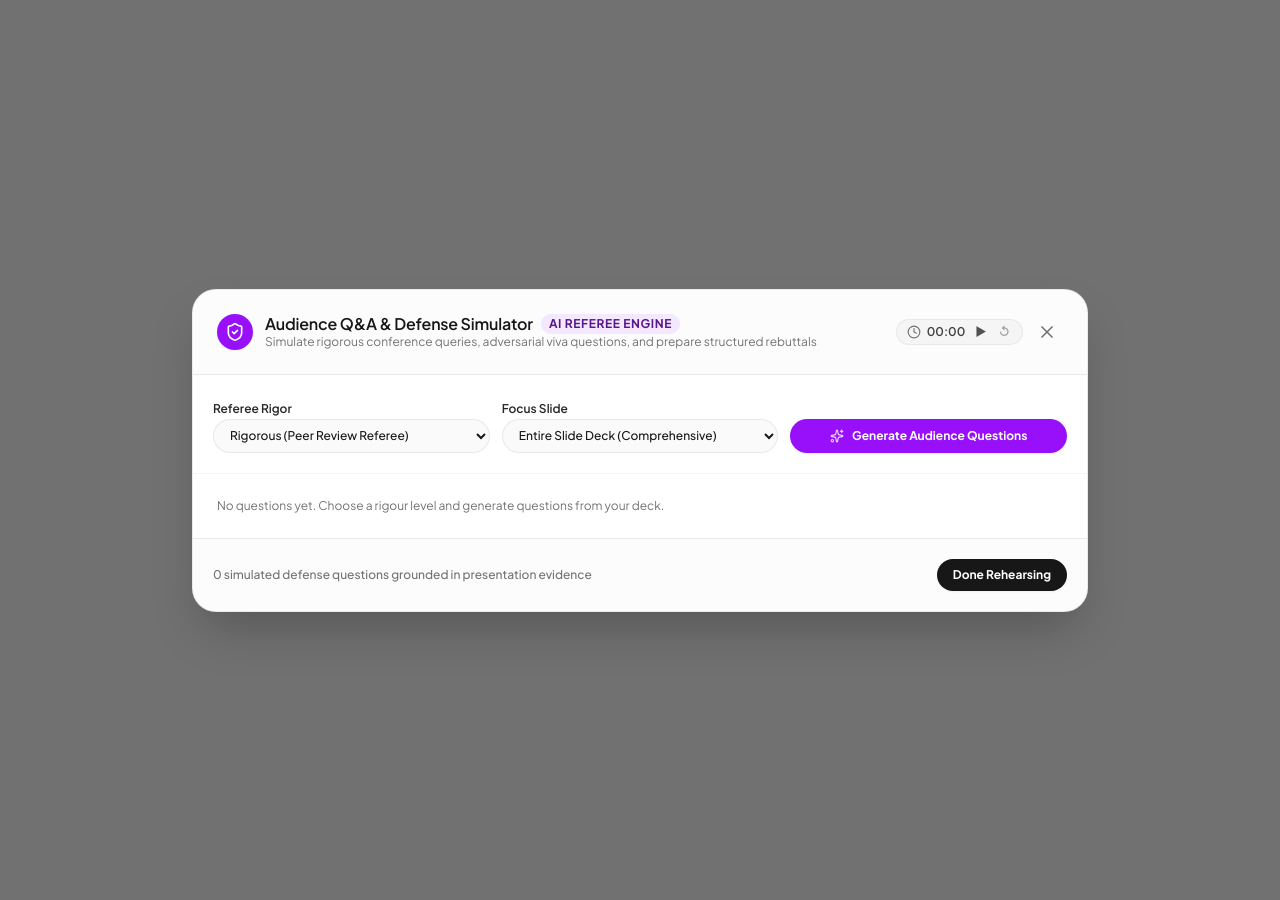
Test case: AudienceQaSimulator › shows why no questions were generated instead of stand-in questions
This screenshot has width=1280, height=900.
Step 1. Click the button with test id "run-qa-simulation-btn" → (929, 436), box [790,418,1067,452]
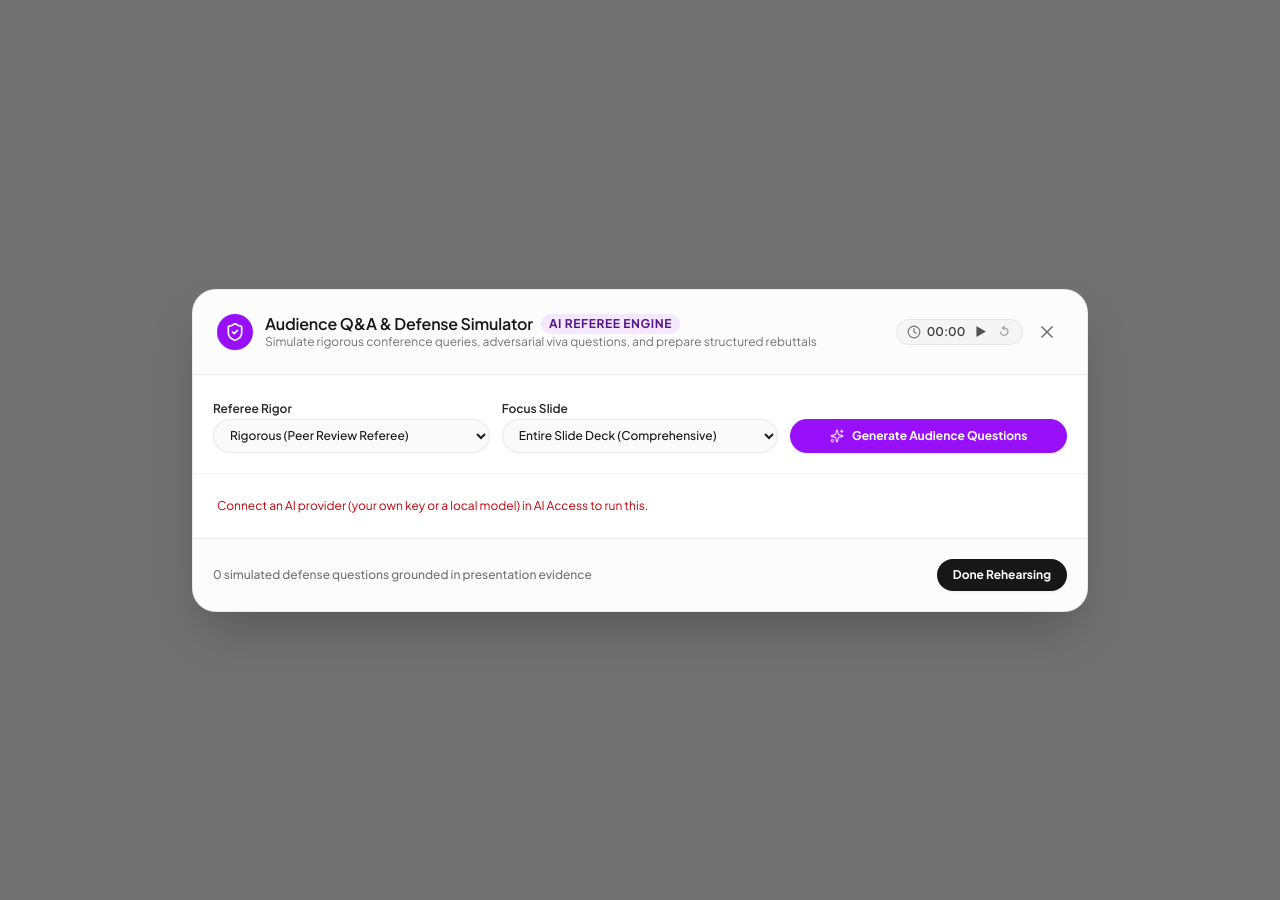
Now the message shows "Connect an AI provider", box [217,498,648,512]
